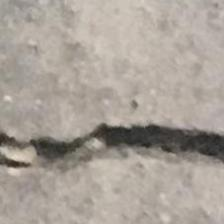Crack: (0, 123, 224, 184)
